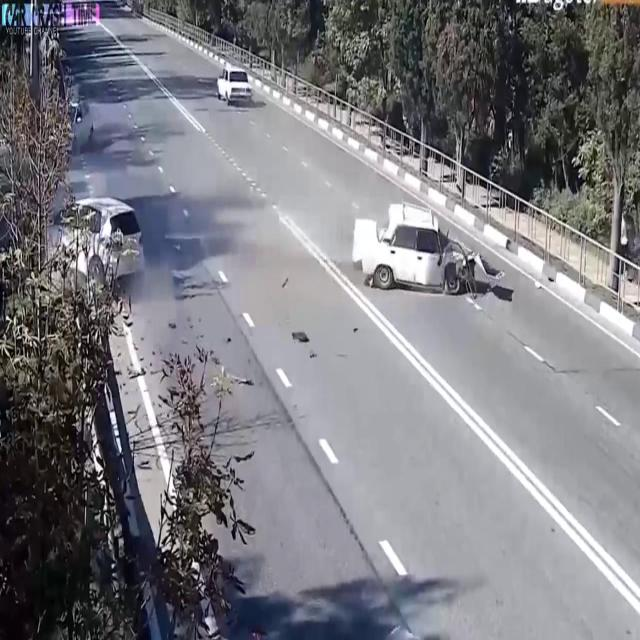accident: (342, 190, 512, 319)
